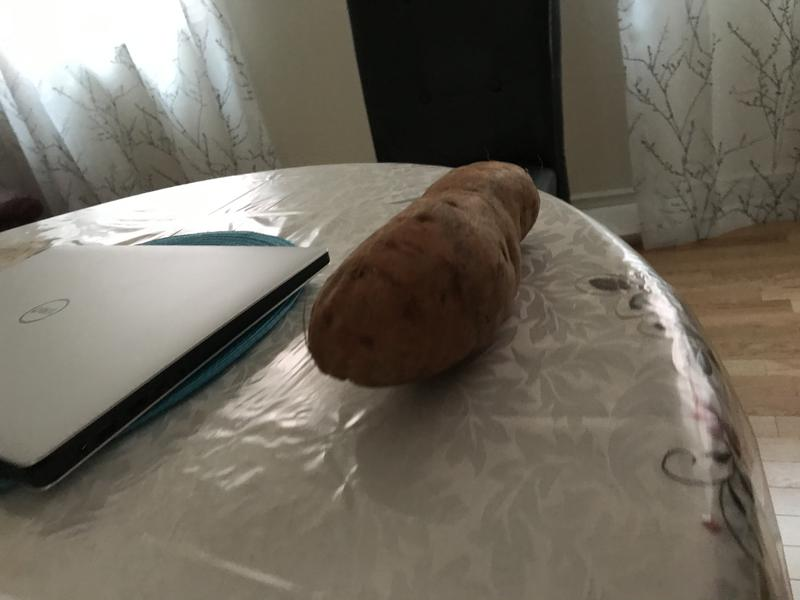sweet_potato: (304, 144, 548, 406)
